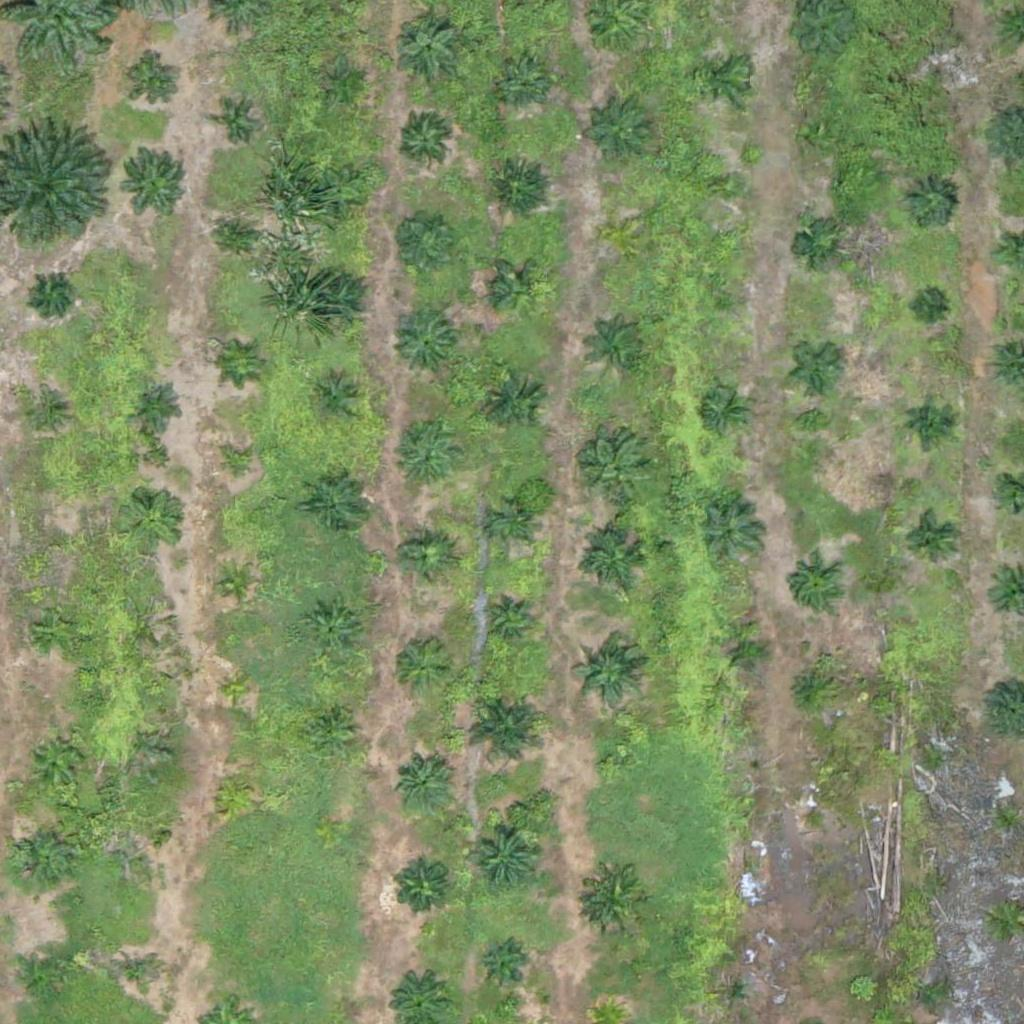Kelapa_Sawit: (463, 686, 550, 774), (571, 637, 646, 713), (385, 207, 460, 283), (466, 817, 541, 892), (117, 143, 192, 218), (389, 635, 452, 698), (394, 428, 457, 491), (392, 752, 455, 815), (700, 501, 763, 564), (583, 869, 646, 932), (8, 826, 71, 889), (307, 471, 370, 534), (303, 601, 366, 664), (308, 271, 371, 334), (588, 100, 651, 163), (487, 155, 550, 218), (393, 312, 455, 375), (390, 855, 452, 918), (483, 372, 545, 435), (583, 529, 645, 592), (585, 439, 648, 501), (591, 317, 653, 380), (26, 729, 88, 792), (394, 14, 456, 77), (122, 489, 184, 552), (903, 514, 953, 565), (312, 375, 362, 426), (131, 60, 181, 111), (696, 50, 746, 101), (903, 175, 953, 226), (721, 627, 771, 678), (783, 662, 833, 713), (319, 169, 369, 220), (111, 949, 161, 1000), (23, 947, 73, 998), (401, 534, 451, 584), (473, 943, 523, 993), (905, 397, 955, 447), (793, 342, 843, 392), (493, 264, 543, 314), (700, 385, 750, 435), (788, 560, 838, 610), (306, 702, 356, 752), (401, 116, 451, 166), (495, 57, 545, 107), (795, 222, 845, 272), (132, 380, 182, 430), (32, 605, 82, 655), (482, 595, 531, 646), (226, 345, 264, 383), (33, 273, 71, 311), (803, 118, 841, 156), (326, 62, 364, 100), (219, 446, 257, 484), (217, 565, 255, 603), (219, 672, 257, 710), (215, 772, 253, 810), (492, 504, 529, 542), (716, 974, 753, 1012), (27, 397, 64, 435), (39, 526, 76, 564), (122, 824, 159, 862), (217, 107, 254, 144), (221, 217, 258, 254), (926, 51, 951, 76), (915, 294, 940, 319), (714, 287, 739, 312), (714, 171, 739, 196), (609, 225, 634, 250), (798, 805, 823, 830), (599, 752, 624, 777)
